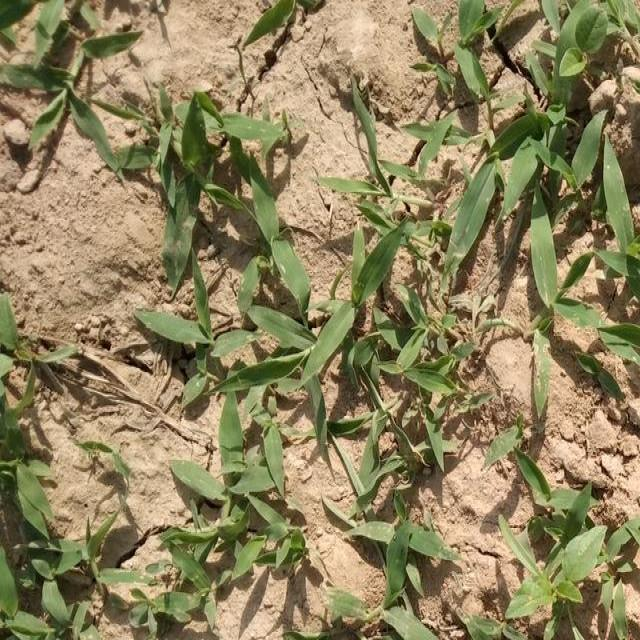weed: (458, 0, 636, 257), (250, 274, 456, 488), (136, 82, 274, 257), (516, 477, 640, 640), (15, 476, 123, 638), (337, 81, 438, 249), (144, 286, 242, 402), (350, 531, 446, 640)
